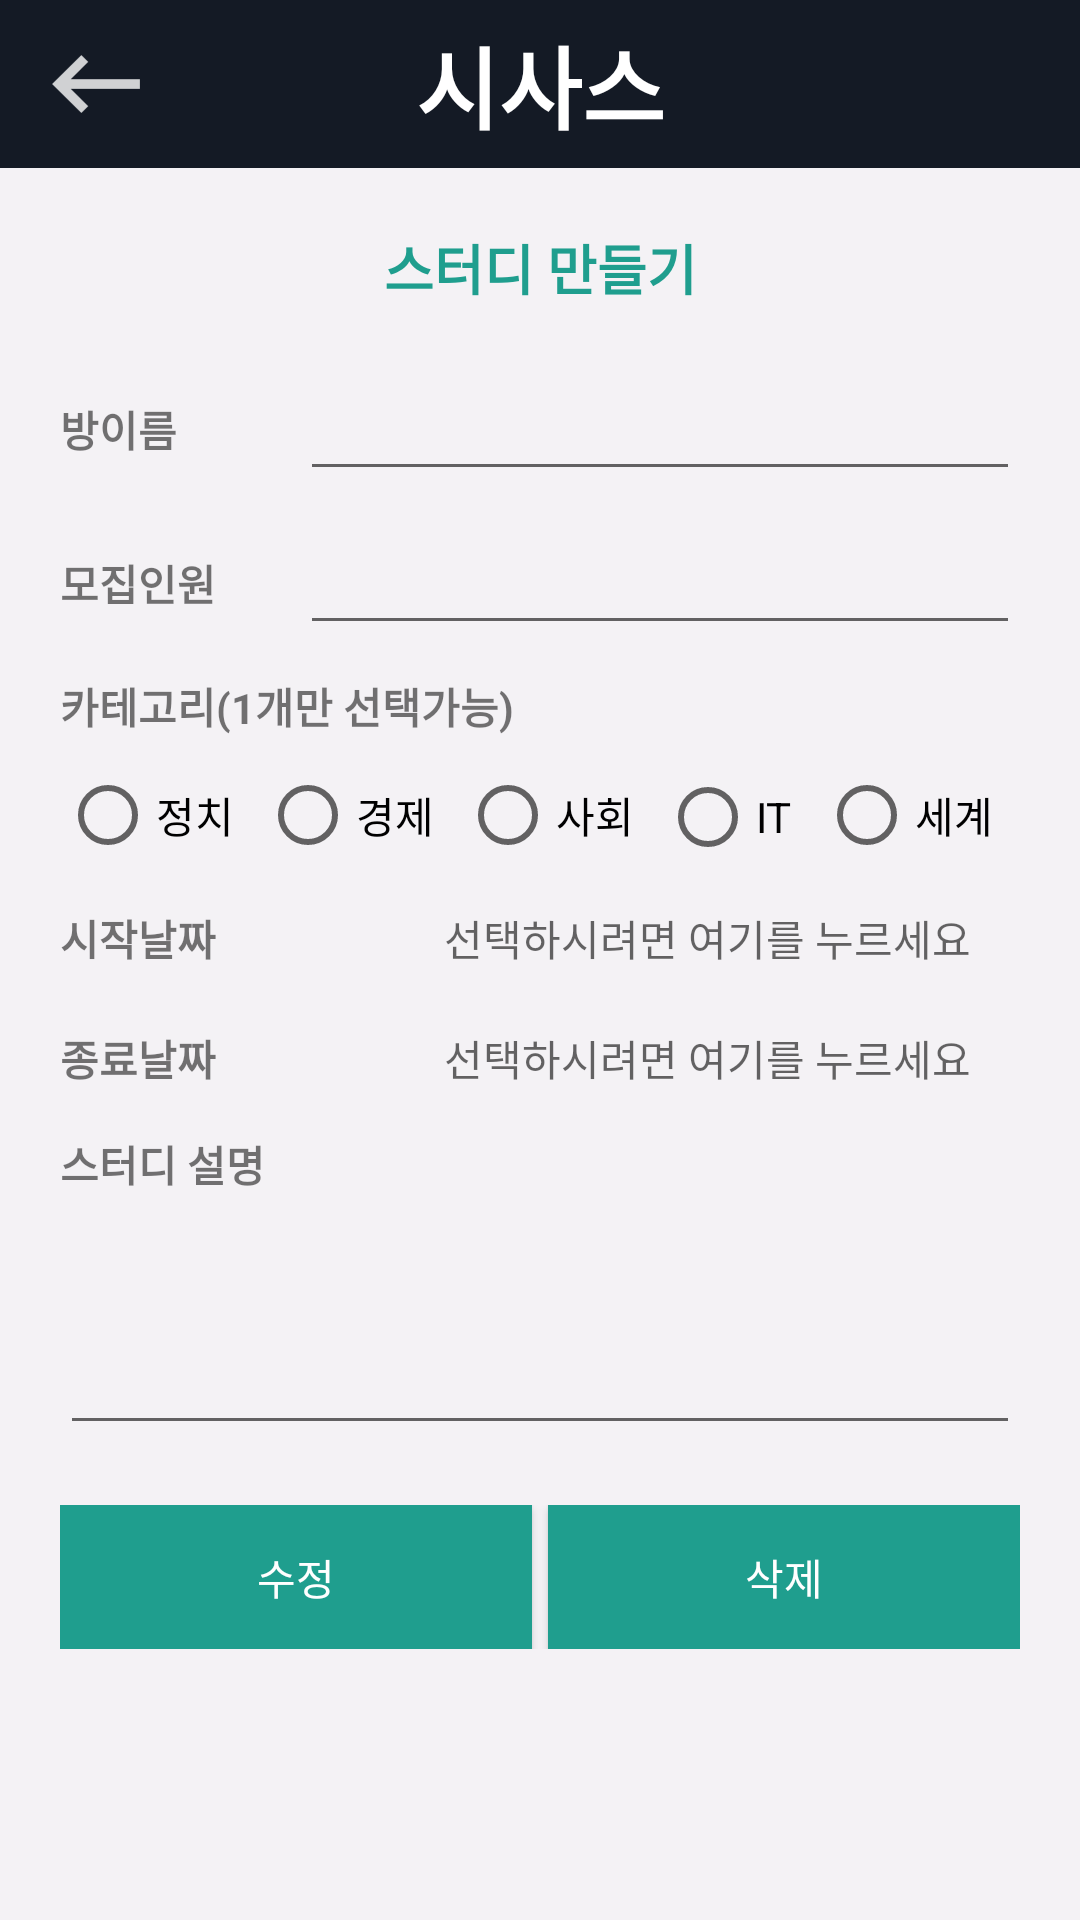

Named icons in this screenshot (1080×1920) and their bounding boxes, box(x1, y1, x2, y2):
back: box(52, 55, 140, 113)
